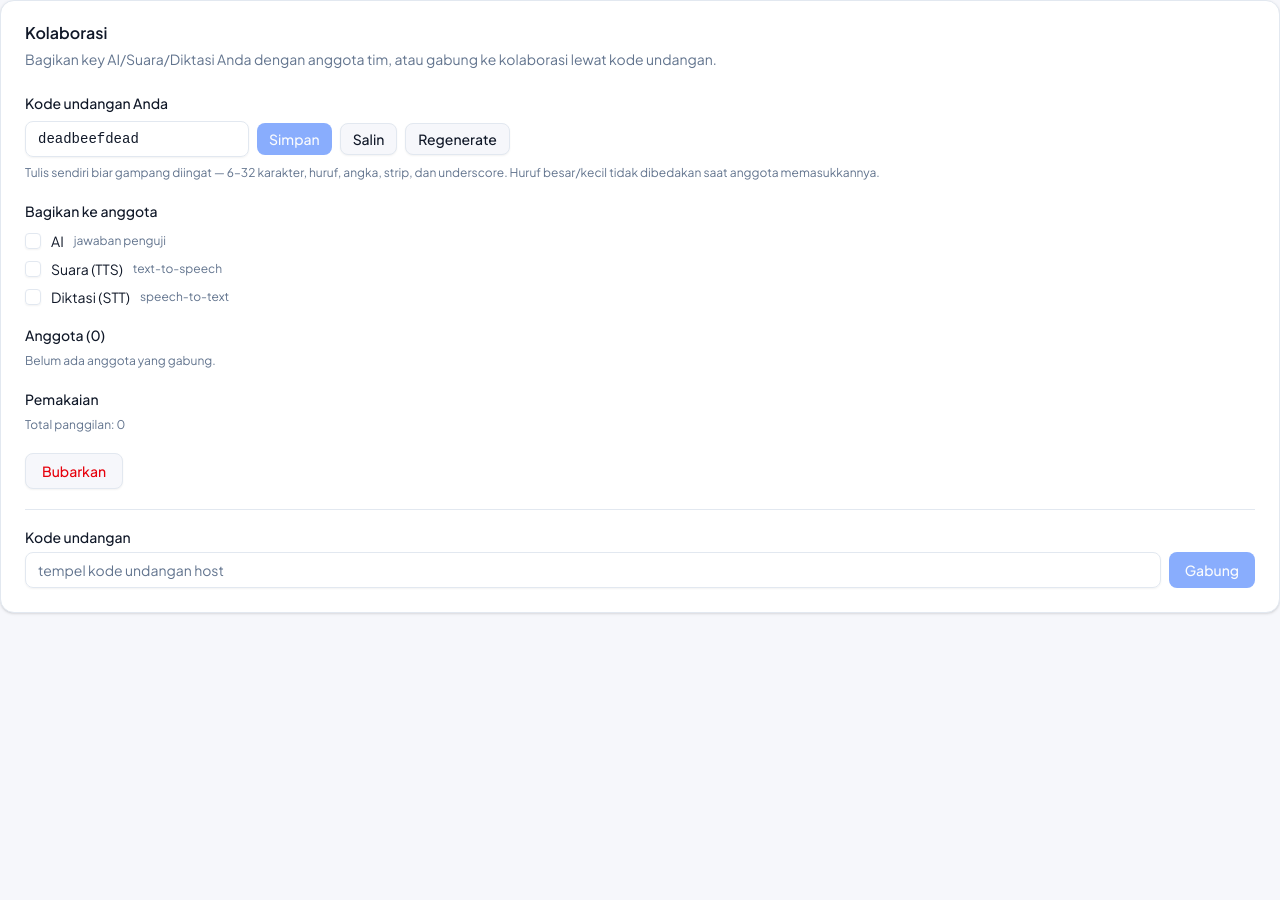
Test case: CollabSettings › lets the host rewrite its own code, and surfaces the server's rejection
The image size is (1280, 900).
Expected: the button "Simpan" is disabled, [257,123,332,155]
Replace the text in the field labelled "Kode undangan Anda" with "sibiru-2026" at (137, 139), box [25,121,249,157]
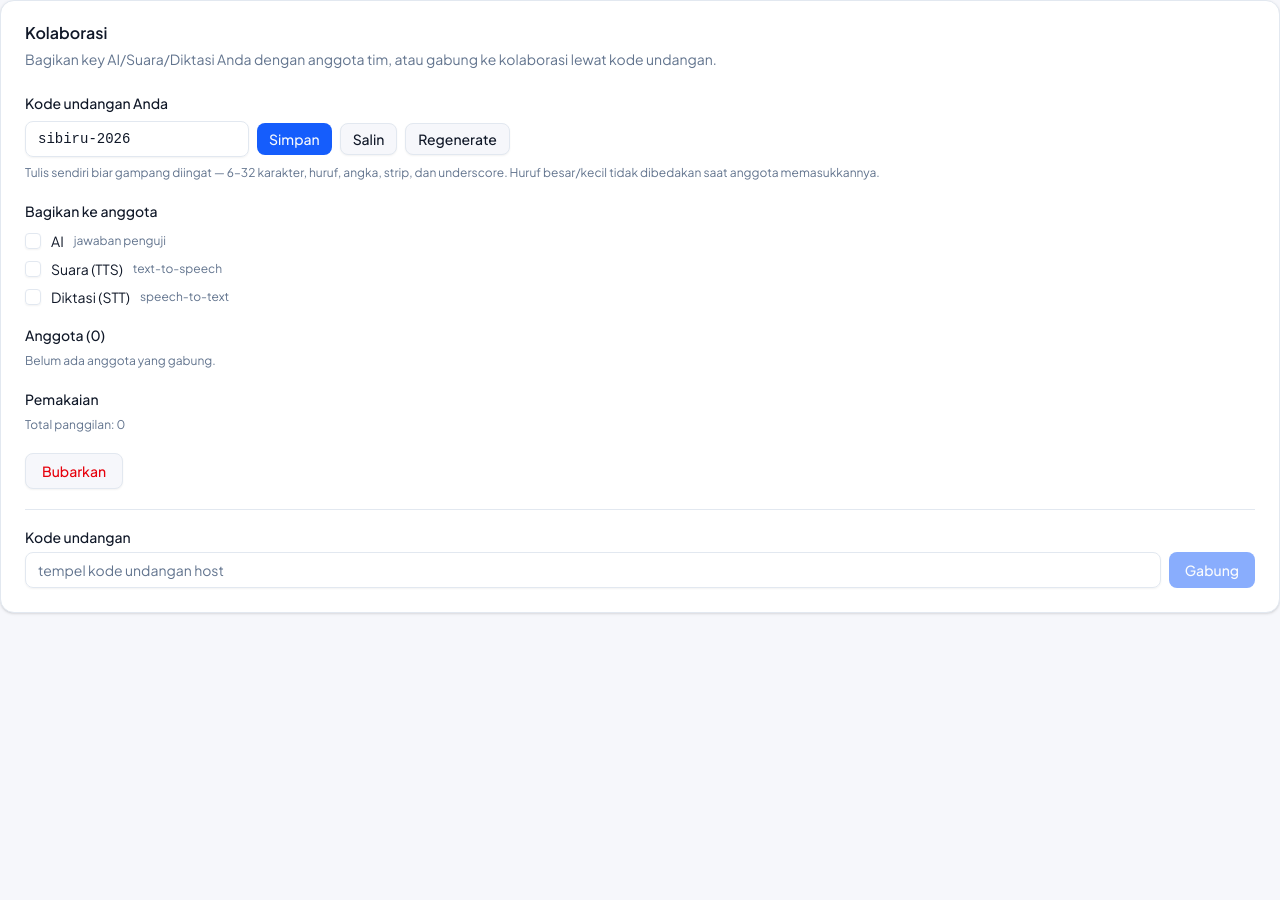
Click the button "Simpan" at (294, 139), box [257,123,332,155]
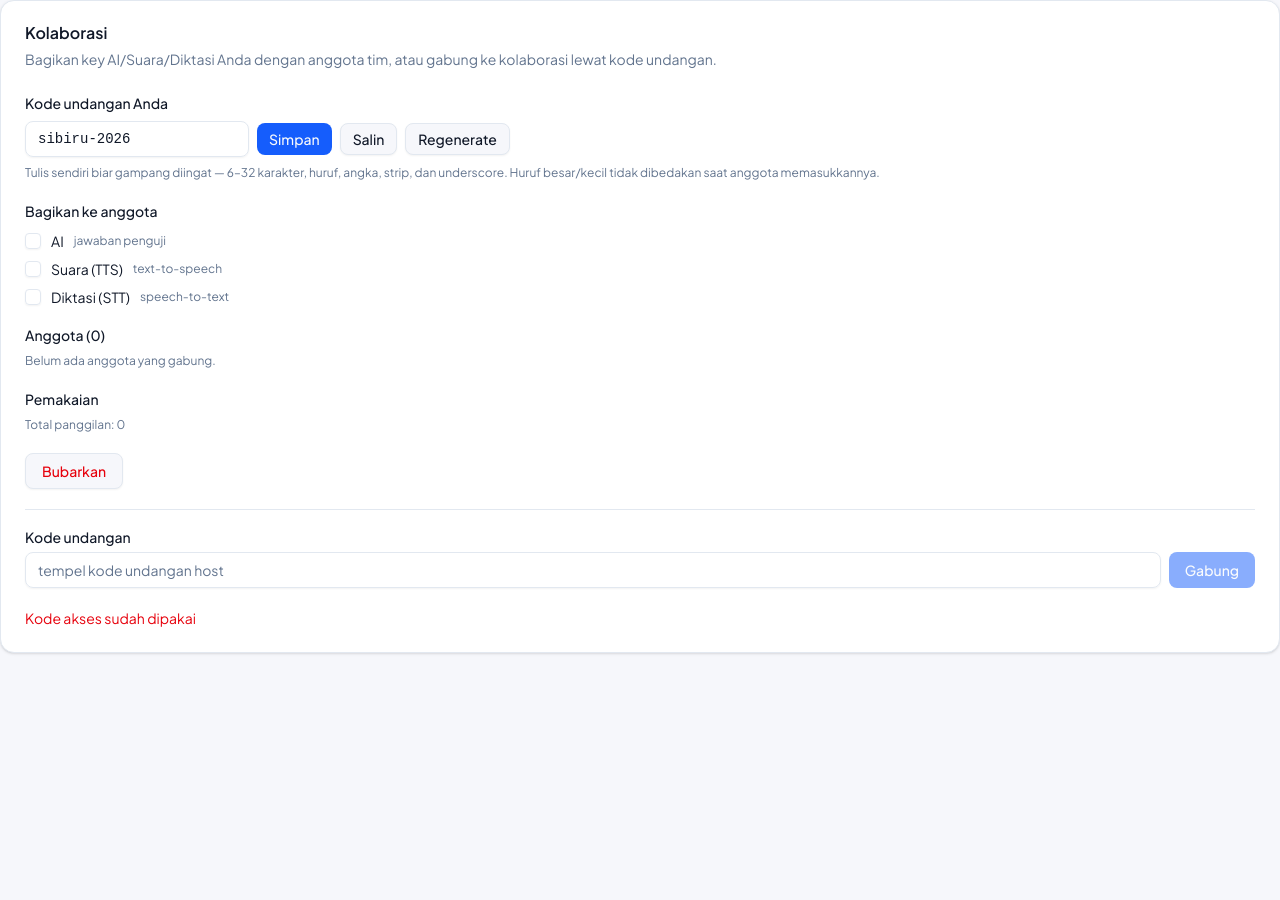
Now the text "Kode akses sudah dipakai" is shown, box [25,609,196,627]
Click the button "Simpan" at (294, 139), box [257,123,332,155]
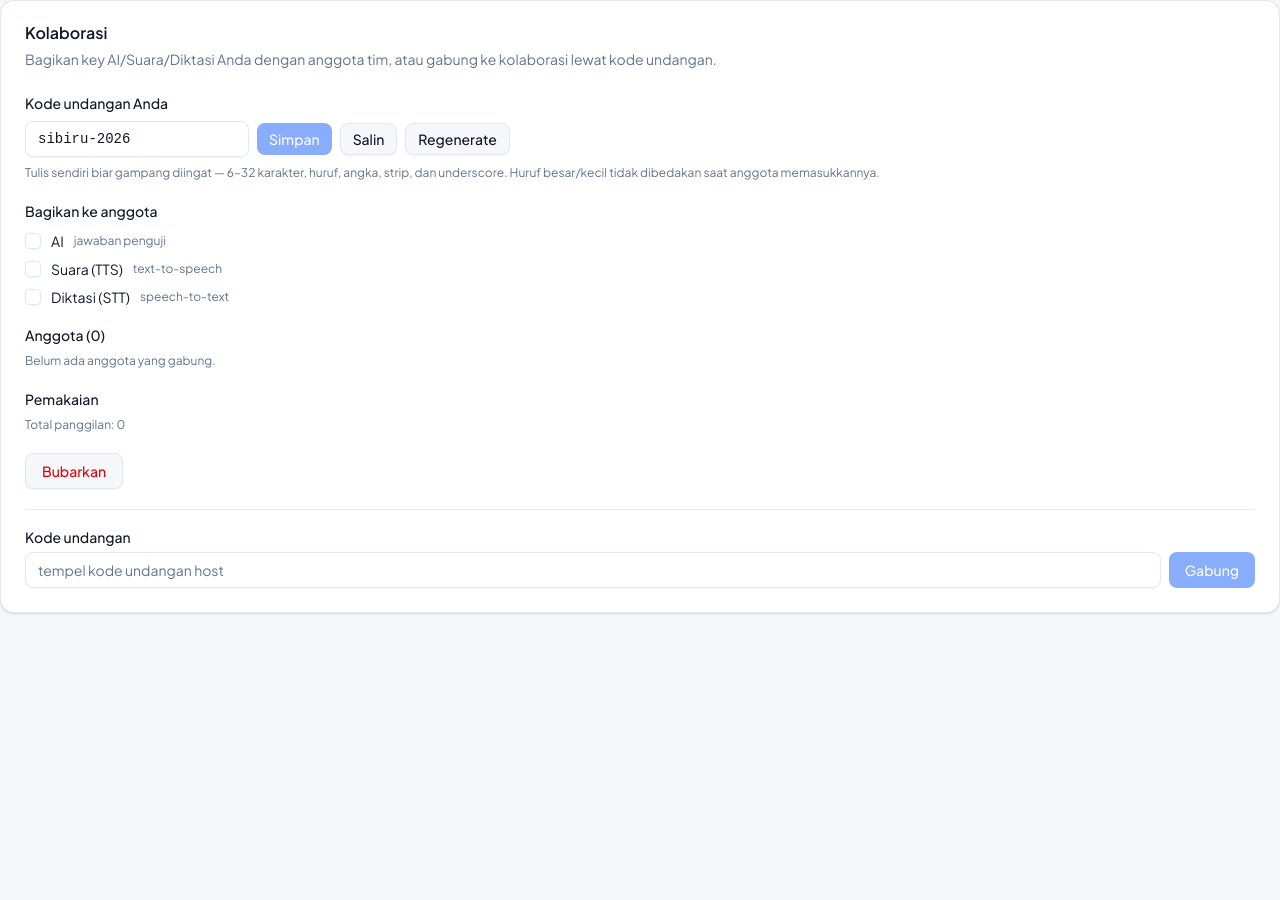
Now the button "Simpan" is disabled, box [257,123,332,155]
